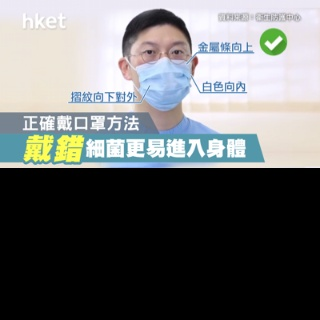with_mask: (130, 37, 191, 109)
